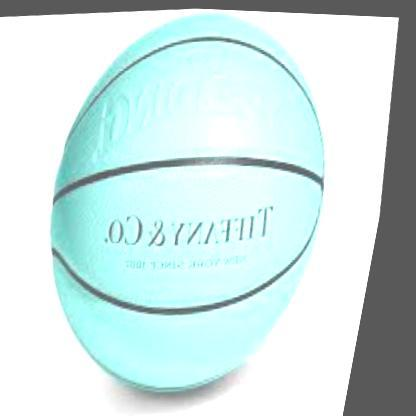basketball: (14, 2, 374, 405)
